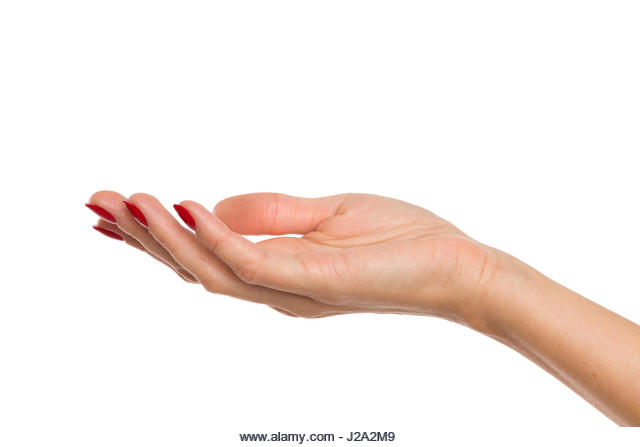hand: (68, 150, 513, 356)
